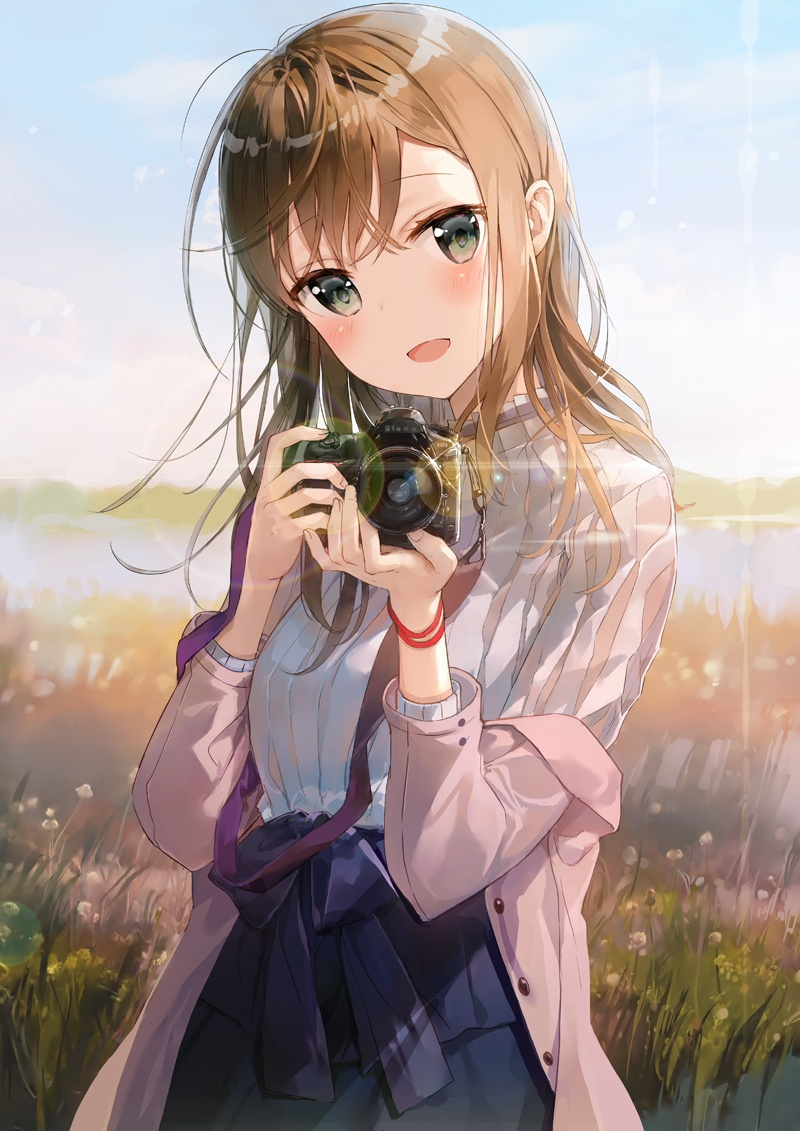纸片人正脸: (191, 0, 608, 408)
